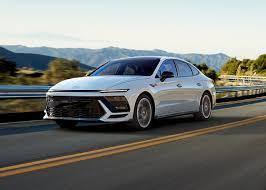hyundai: (70, 84, 83, 91)
